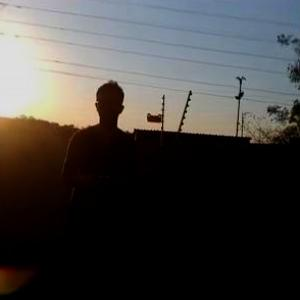follow: (51, 72, 137, 299)
